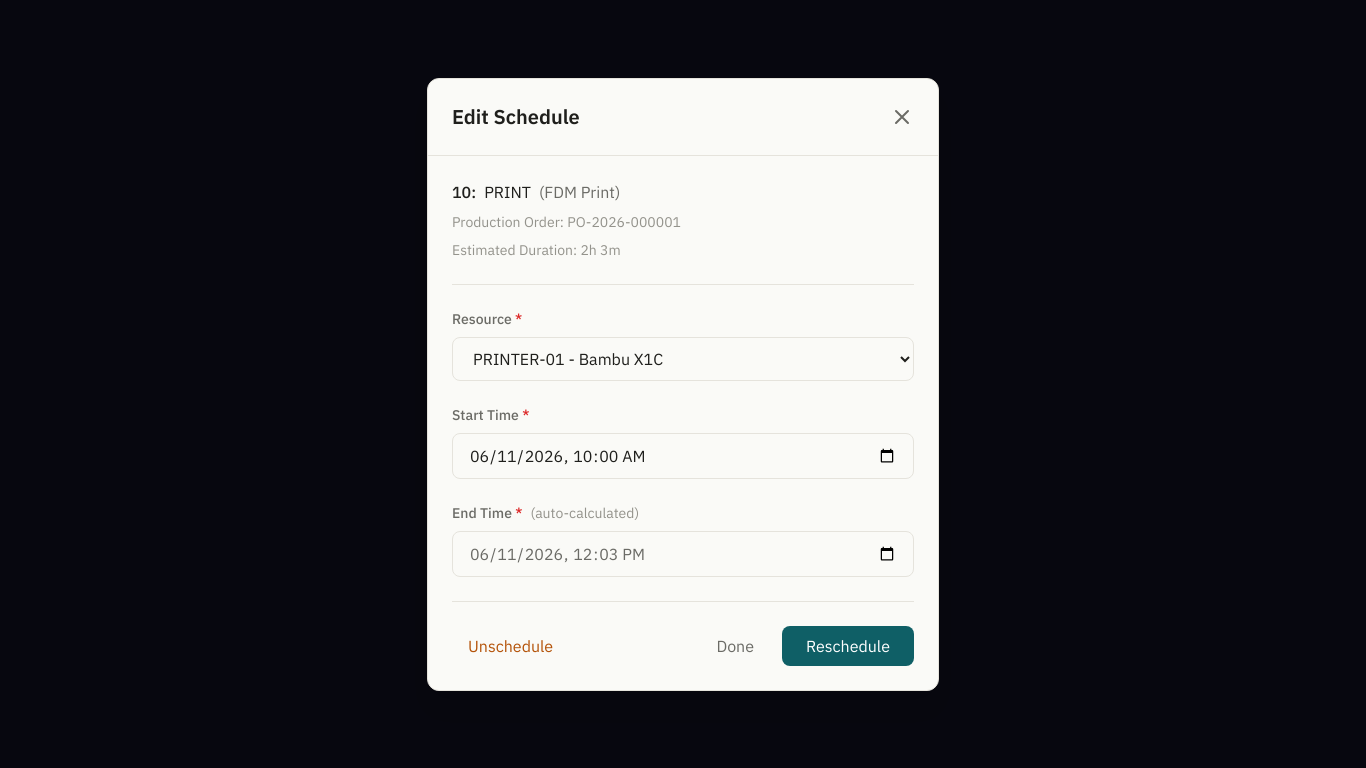
Test: OperationSchedulerModal — edit mode (already scheduled op) › clicking Cancel in confirm panel hides it
The image size is (1366, 768).
Click the button "Unschedule": (511, 646) [452,626,569,666]
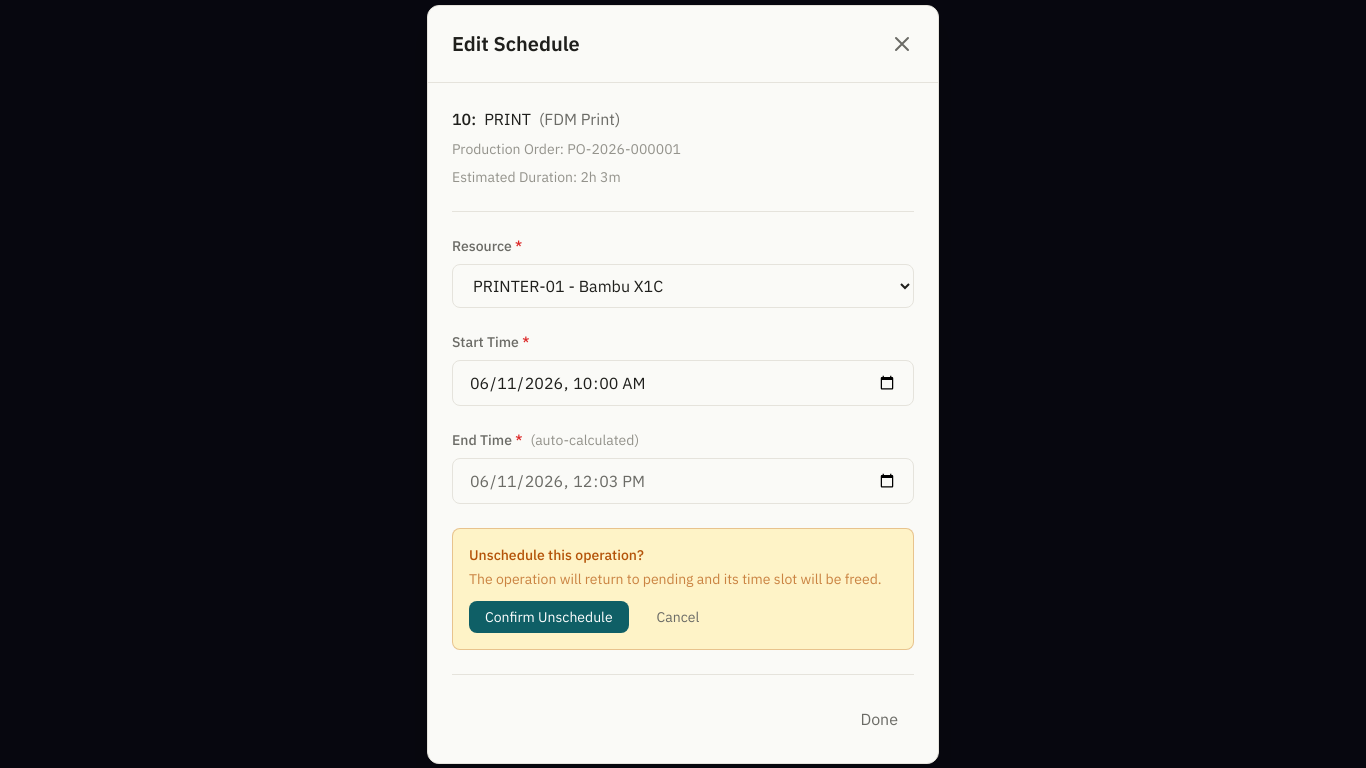
Check: the text "Unschedule this operation?" is shown, box [469,546,644,564]
Click the button "Cancel": (678, 616) [641,600,715,632]
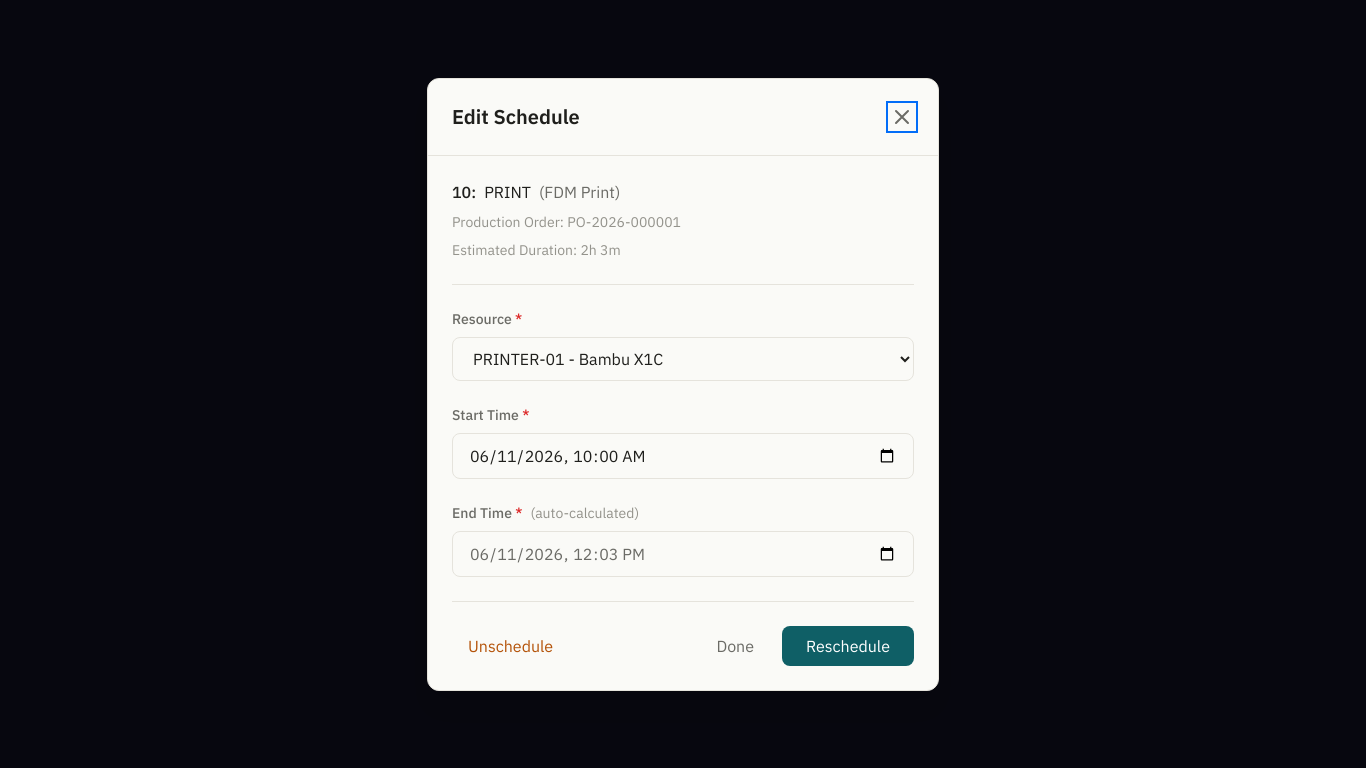
Check: the button "Unschedule" is shown, box [452,626,569,666]
Check: the text "Unschedule this operation?" is gone
